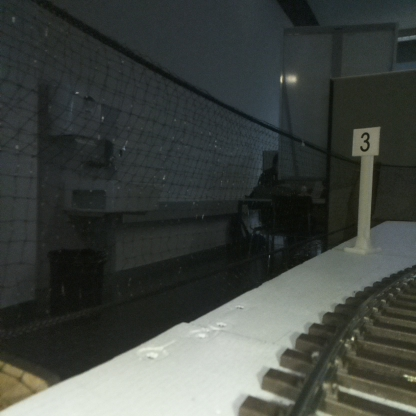white-info-3: (352, 128, 378, 252)
